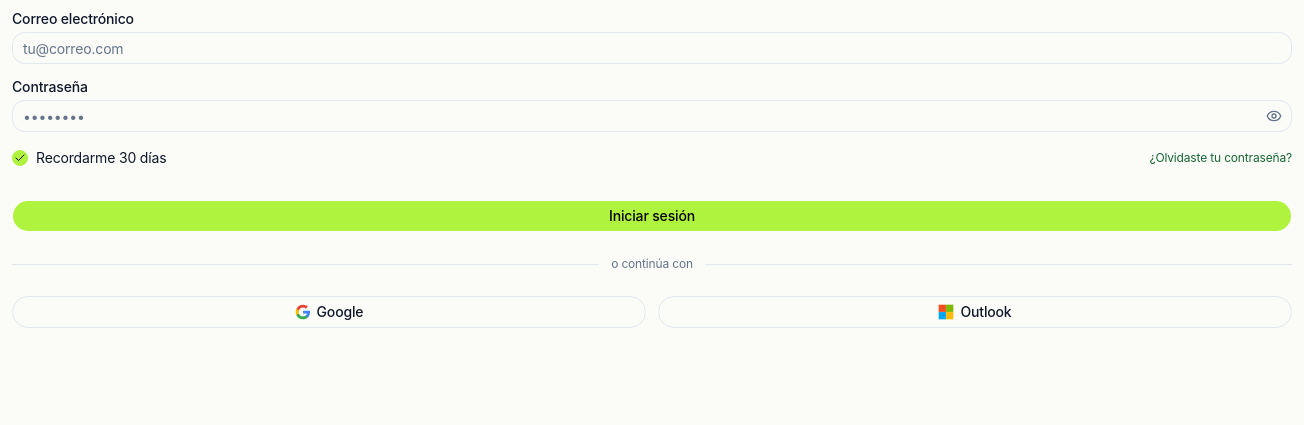
Test: auth password error handling › resets a rejected password attempt before switching to Outlook
The image size is (1304, 425).
Type "ana@example.com" into the field labelled "Correo electrónico".
click(652, 48); type("ana@example.com")  # box [12,32,1292,64]
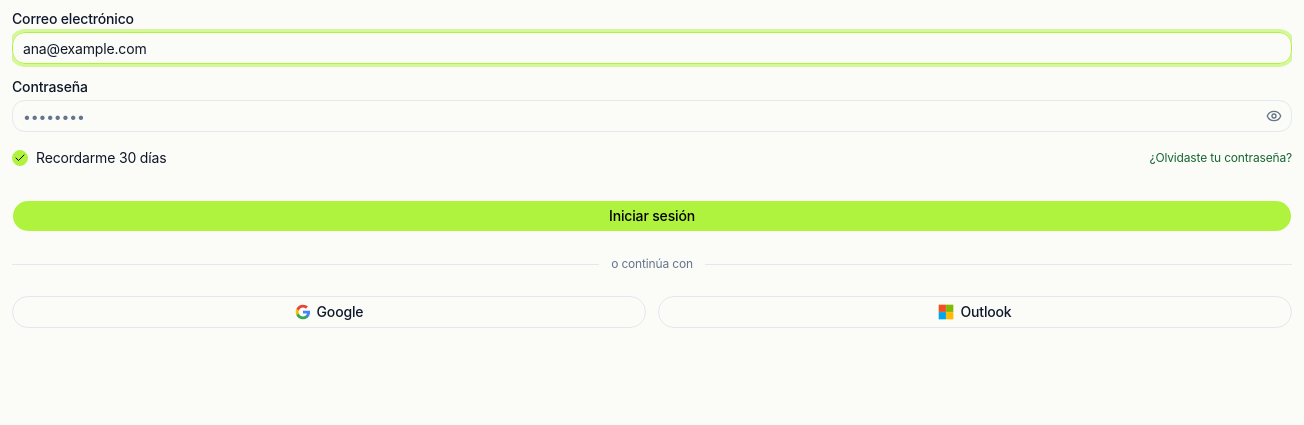
Type "secreto" into the password field labelled "Contraseña".
click(652, 116); type("secreto")  # box [12,100,1292,132]
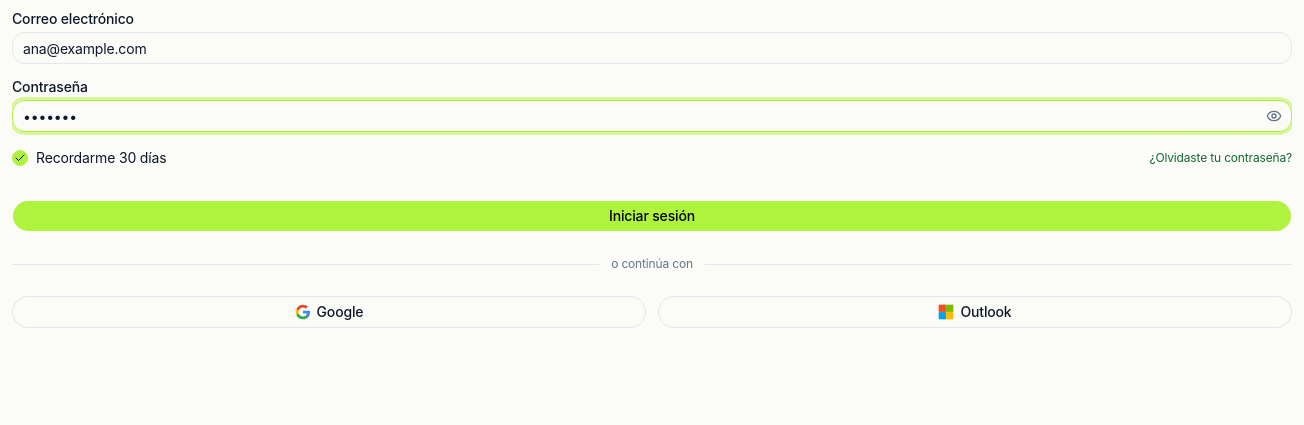
Click the button "Iniciar sesión".
click(652, 216)  # box [12,200,1292,232]
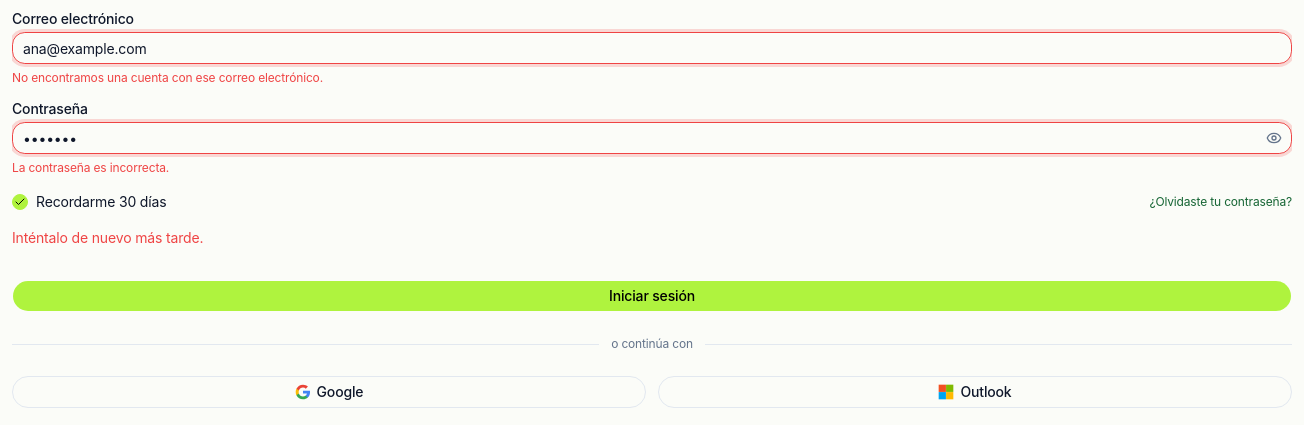
Expected: the text "No encontramos una cuenta con ese correo electrónico." is shown, [12,70,323,85]
Click the button "Outlook".
click(975, 392)  # box [658,376,1292,408]
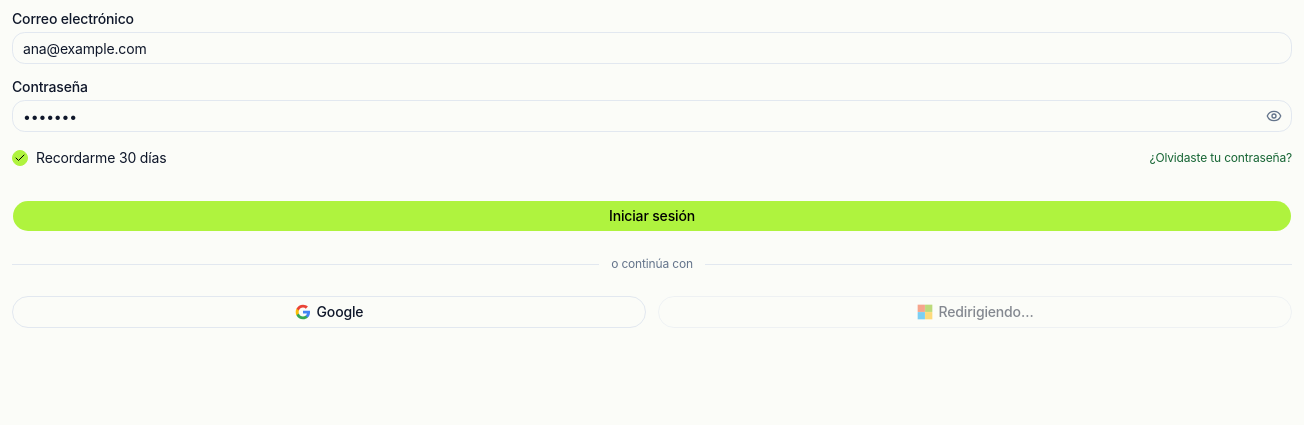
Expected: the text "No encontramos una cuenta con ese correo electrónico." is gone
